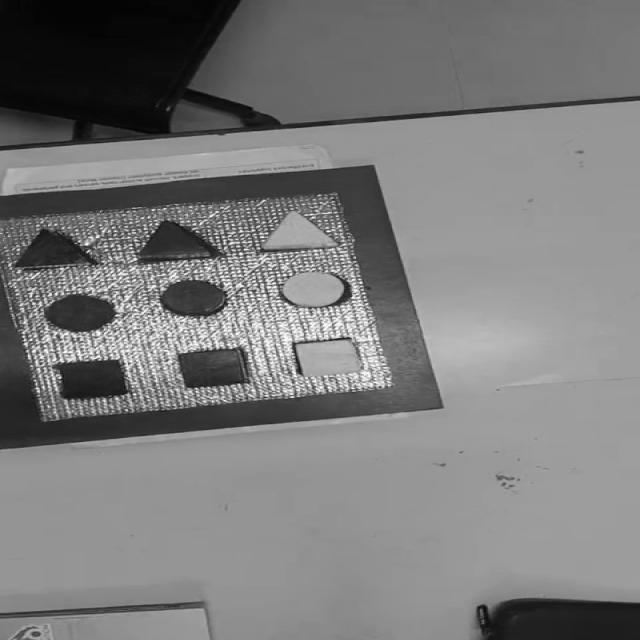btriangle: (10, 228, 98, 271)
mtcircle: (42, 293, 119, 333)
mtcube: (53, 359, 130, 399)
rcircle: (160, 278, 229, 316)
rcube: (177, 348, 249, 388)
rtriangle: (136, 220, 215, 261)
wb: (2, 189, 400, 424)
ycircle: (280, 270, 350, 309)
ycube: (293, 338, 363, 377)
ytriangle: (262, 210, 340, 252)
